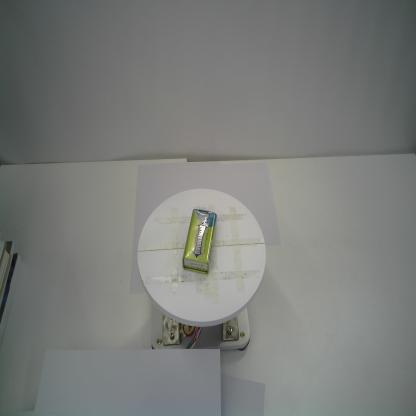Gum: (182, 209, 217, 274)
